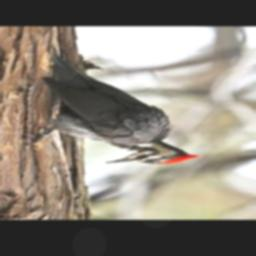Woodpecker: (22, 47, 201, 165)
